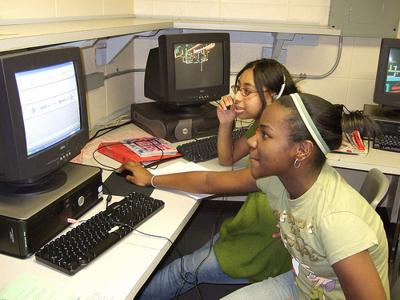person: (117, 92, 393, 300)
